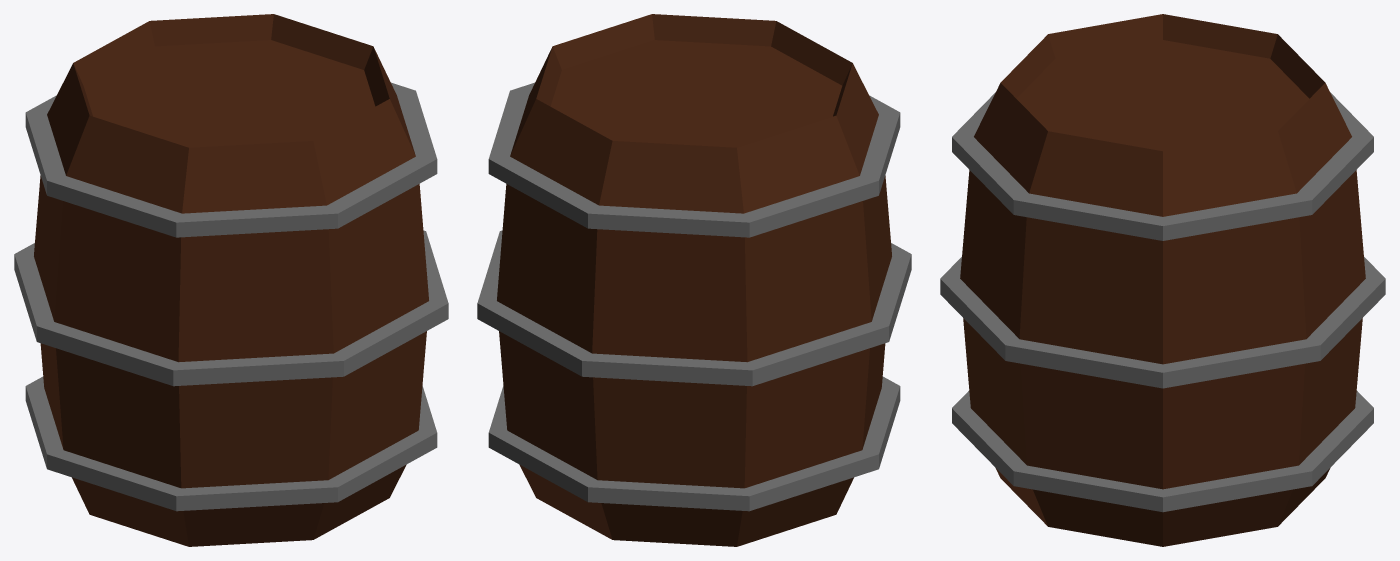
Rendered from barrel.fbx.
3 renders of one model, left to right at view 1: azimuth 30°, elevation 25°; view 2: azimuth 150°, elevation 25°; view 3: azimuth 270°, elevation 25°, orthographic.
Visible parts, largest first — view 1: Torus.001, Circle, Circle.002, Circle.004, Circle.003; view 2: Torus.001, Circle, Circle.002, Circle.004, Circle.003; view 3: Torus.001, Circle, Circle.002, Circle.004, Circle.003.
Boxes of the visible parts, x1,y1,x2,y2 form: Torus.001: (34,14,428,546); Circle: (83,40,375,147); Circle.002: (25,82,437,237); Circle.004: (14,230,448,386); Circle.003: (25,376,437,511); Torus.001: (497,14,891,546); Circle: (550,40,842,147); Circle.002: (488,82,900,237); Circle.004: (477,230,911,386); Circle.003: (488,376,900,511); Torus.001: (960,14,1365,546); Circle: (1016,40,1309,151); Circle.002: (952,92,1373,240); Circle.004: (940,257,1385,388); Circle.003: (952,390,1373,512).
Size of the model in its own units: 274 by 269 by 274.
